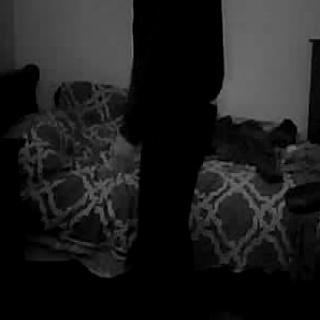Navy Sweatpants: (126, 117, 215, 320)
